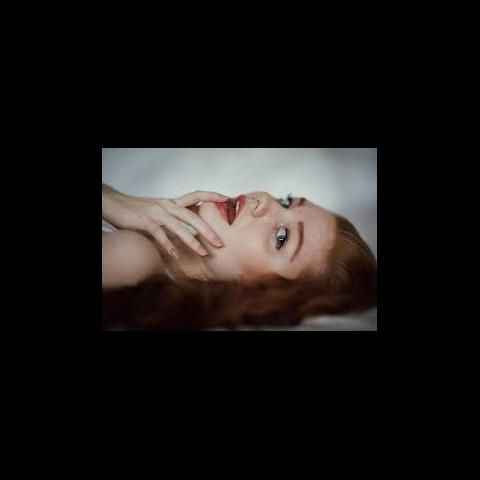opened: (268, 183, 300, 253)
